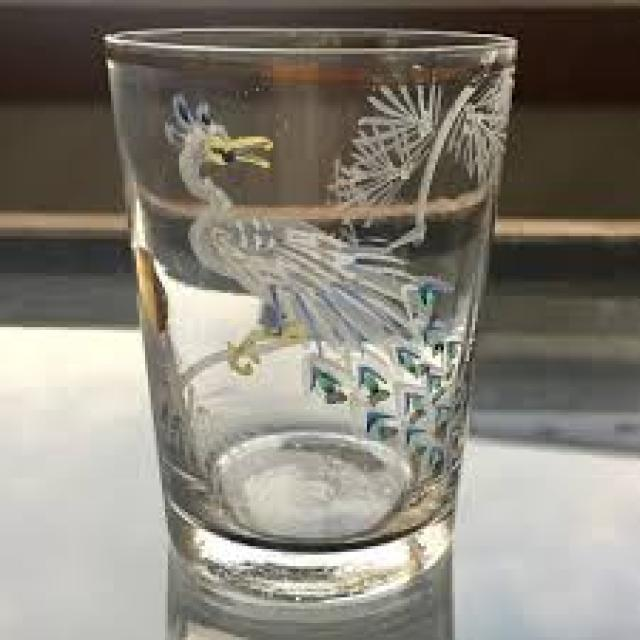Glass: (105, 22, 518, 608)
